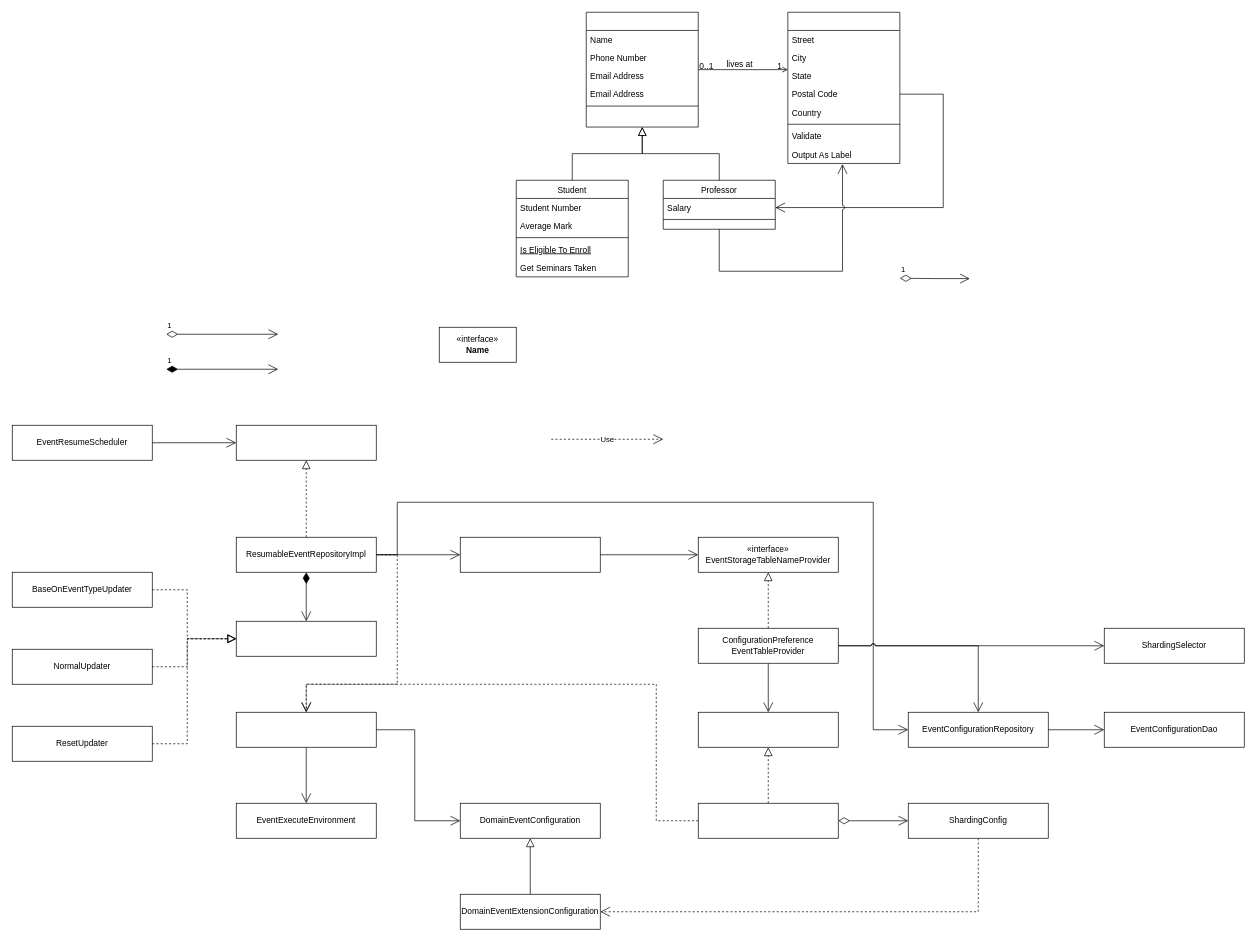
The diagram is 1257 pixels wide and 942 high, and some of its shapes have lost their labels. Here are the shapes that lost their labels. From the top down, the box of each, then its label:
(586, 12, 698, 127): Person
(787, 12, 900, 163): Address
(236, 425, 376, 460): «interface» ResumableEventRepository
(460, 537, 600, 572): EventStorageDao
(236, 621, 376, 656): «interface» EventUpdatable
(236, 712, 376, 747): EventContext
(698, 712, 838, 747): «interface» ShardingConfigProvider
(698, 803, 838, 838): ExtensionContext ShardingConfigProvider
